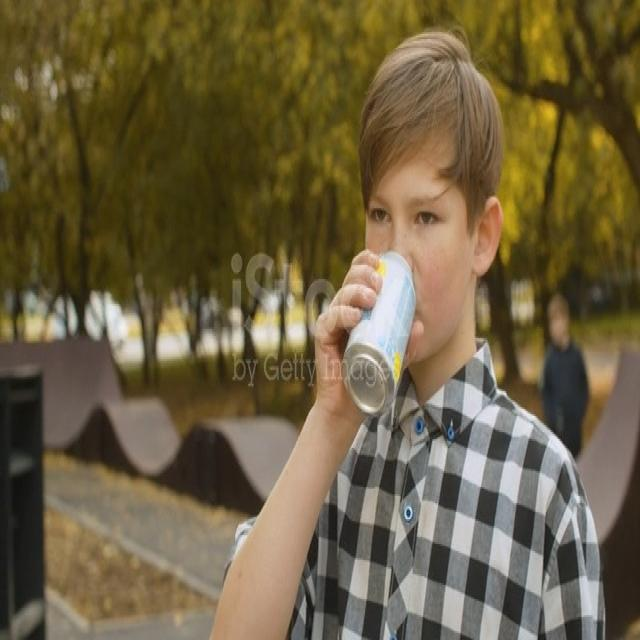can: (340, 247, 417, 416)
